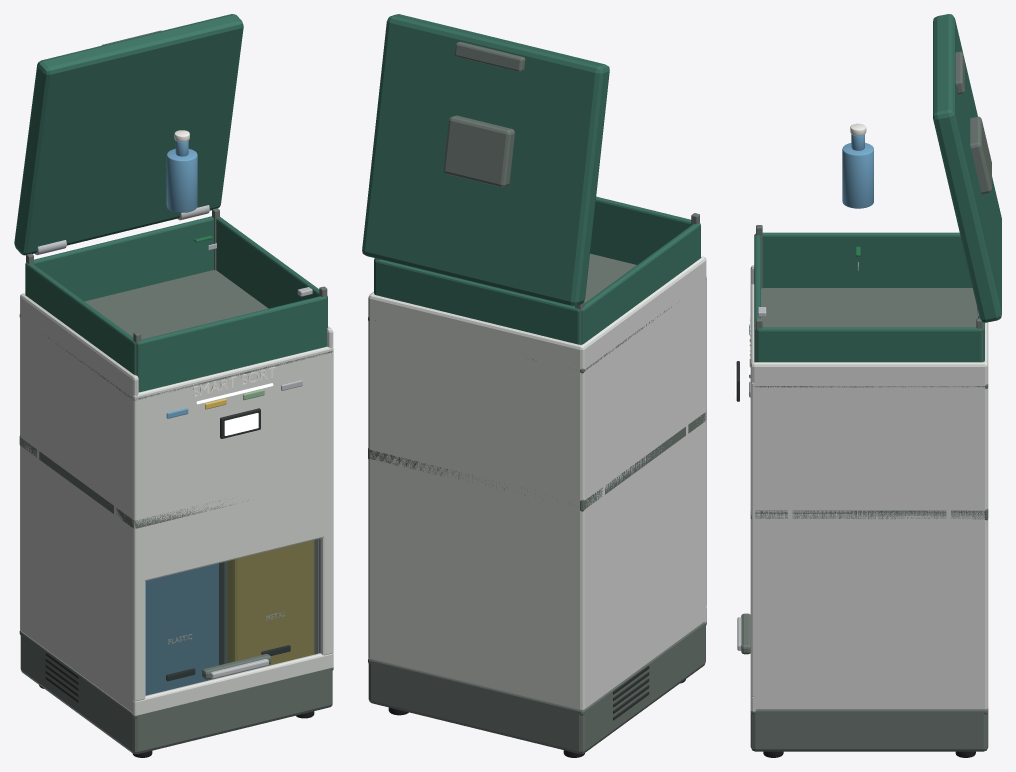
Rendered from smartbin.glb.
3 views of the same model, side by side, from view 1: azimuth 30°, elevation 25°; view 2: azimuth 150°, elevation 25°; view 3: azimuth 270°, elevation 25° (orthographic). The views are drawn at different scales.
Parts seen in each view (by area): view 1: GEO-Side-L, GEO-Lid, GEO-FrontTop, GEO-Window, GEO-Base, GEO-Collar-F, GEO-BIN 2, GEO-Collar-B, GEO-BIN 1, GEO-TopRail, GEO-Collar-R, GEO-Collar-L (+9 smaller); view 2: GEO-Back, GEO-Lid, GEO-Side-L, GEO-Base, GEO-Collar-B, GEO-Collar-L, GEO-Collar-F, GEO-CameraPod, GEO-TopRail, GEO-LidHandle, GEO-BottomRail, GEO-MidFrame-B (+1 smaller); view 3: GEO-Side-R, GEO-Collar-L, GEO-Lid, GEO-Base, GEO-TopRail, GEO-Collar-R, GEO-Item, GEO-FrontTop, GEO-MidFrame-R, GEO-CameraPod, GEO-BottomRail, GEO-FrontRight (+2 smaller).
Part boxes in pixels (x1=…): GEO-Side-L: x1=20, y1=293, x2=138, y2=712; GEO-Lid: x1=14, y1=14, x2=243, y2=255; GEO-FrontTop: x1=132, y1=346, x2=333, y2=581; GEO-Window: x1=146, y1=539, x2=317, y2=695; GEO-Base: x1=20, y1=632, x2=332, y2=754; GEO-Collar-F: x1=136, y1=296, x2=327, y2=392; GEO-BIN 2: x1=227, y1=540, x2=314, y2=665; GEO-Collar-B: x1=34, y1=216, x2=213, y2=301; GEO-BIN 1: x1=145, y1=563, x2=218, y2=695; GEO-TopRail: x1=19, y1=270, x2=332, y2=400; GEO-Collar-R: x1=216, y1=217, x2=327, y2=327; GEO-Collar-L: x1=25, y1=262, x2=135, y2=375; GEO-Back: x1=368, y1=294, x2=584, y2=710; GEO-Lid: x1=362, y1=14, x2=609, y2=306; GEO-Side-L: x1=580, y1=256, x2=706, y2=710; GEO-Base: x1=368, y1=622, x2=705, y2=753; GEO-Collar-B: x1=374, y1=259, x2=580, y2=344; GEO-Collar-L: x1=581, y1=223, x2=700, y2=344; GEO-Collar-F: x1=590, y1=196, x2=691, y2=264; GEO-CameraPod: x1=443, y1=115, x2=514, y2=187; GEO-TopRail: x1=368, y1=253, x2=671, y2=373; GEO-LidHandle: x1=454, y1=41, x2=525, y2=71; GEO-BottomRail: x1=368, y1=622, x2=706, y2=715; GEO-MidFrame-B: x1=368, y1=448, x2=602, y2=511; GEO-Side-R: x1=750, y1=362, x2=988, y2=709; GEO-Collar-L: x1=762, y1=232, x2=972, y2=287; GEO-Lid: x1=933, y1=14, x2=1001, y2=322; GEO-Base: x1=750, y1=710, x2=988, y2=751; GEO-TopRail: x1=754, y1=288, x2=988, y2=388; GEO-Collar-R: x1=756, y1=327, x2=982, y2=362; GEO-Item: x1=842, y1=143, x2=873, y2=208; GEO-FrontTop: x1=750, y1=284, x2=755, y2=570; GEO-MidFrame-R: x1=792, y1=510, x2=946, y2=519; GEO-CameraPod: x1=970, y1=116, x2=991, y2=193; GEO-BottomRail: x1=750, y1=708, x2=988, y2=714; GEO-FrontRight: x1=750, y1=554, x2=755, y2=696.
Size of what is drawn, in the model's own units: 0.422 by 1.27 by 0.4722.
